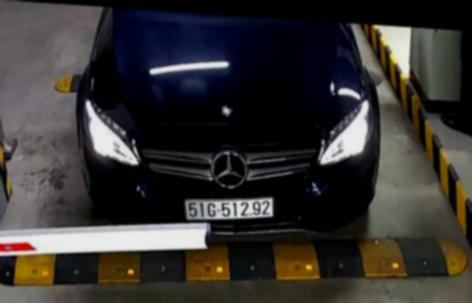License_Plate: (182, 193, 276, 228)
